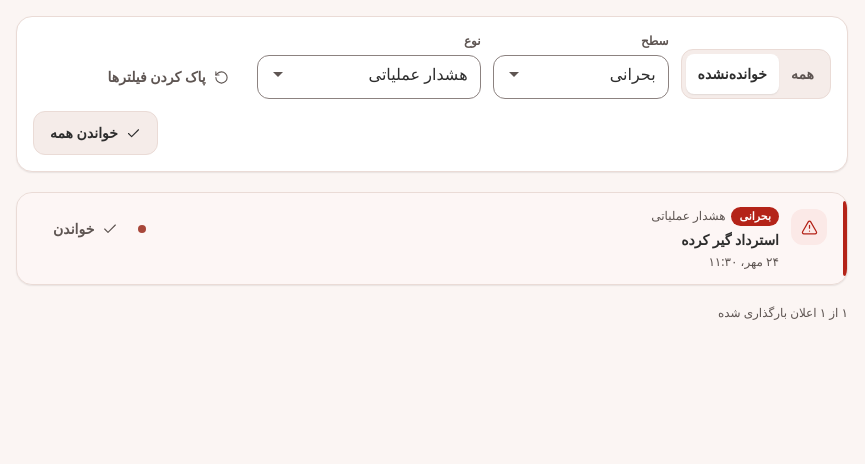
NotificationsView › clearing every filter at once costs a single reload
Click the button with test id "clear-filters" at (168, 77), box [92, 55, 244, 99]
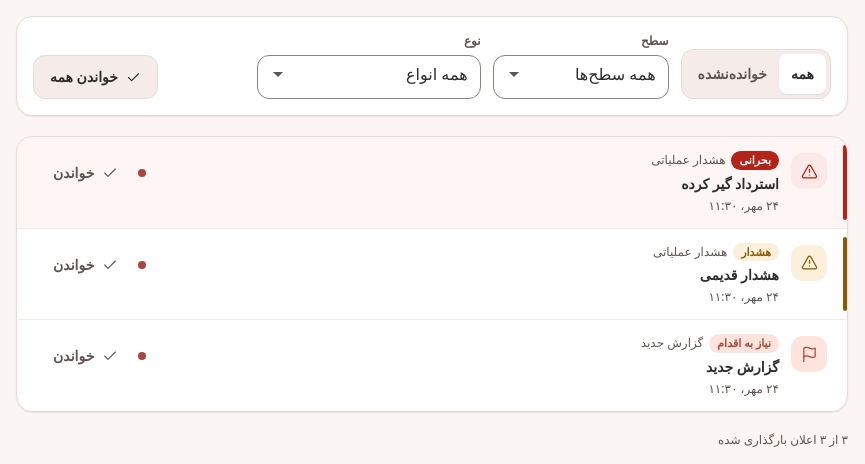
Result: the number of elements with test id "notification-row" is 3 at [17, 137, 847, 228]; [17, 228, 847, 319]; [17, 320, 847, 410]
